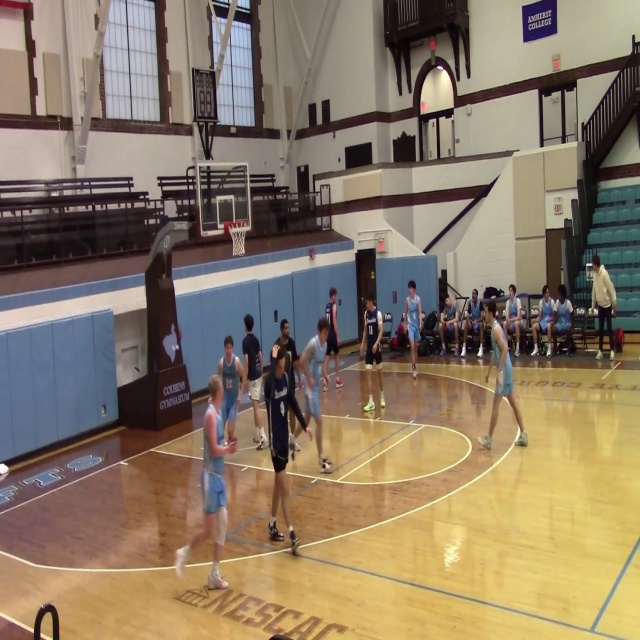Basketball: (0, 463, 9, 475), (335, 377, 343, 387)
